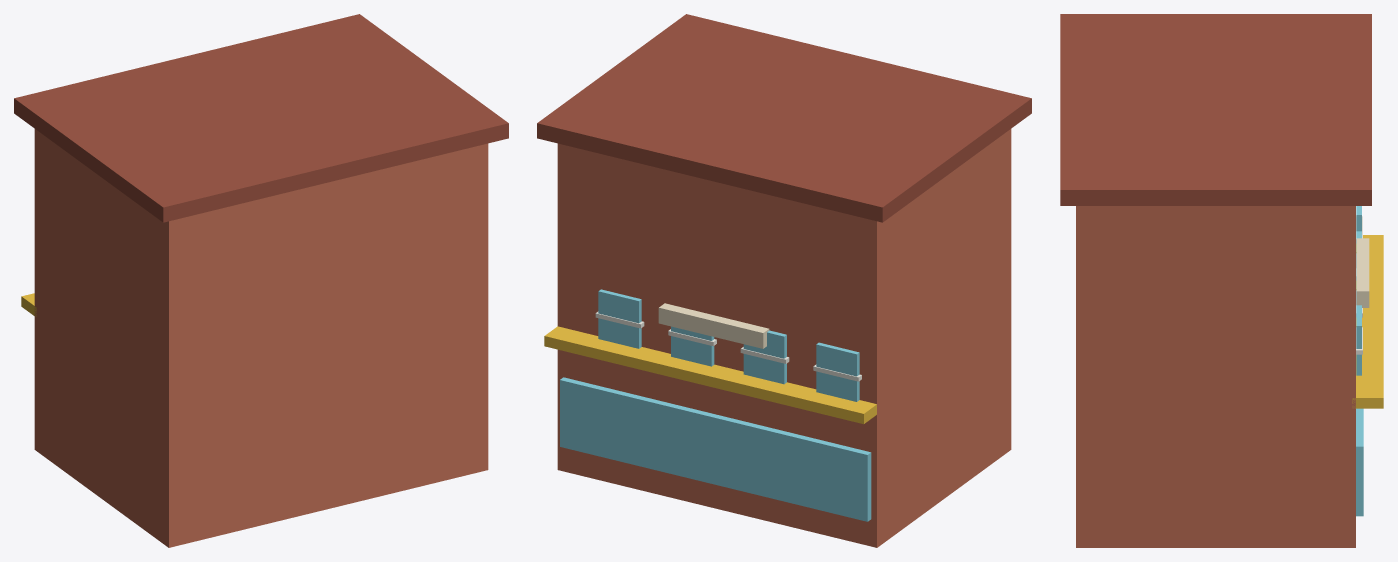
3 views of the same model, side by side, from view 1: azimuth 30°, elevation 25°; view 2: azimuth 150°, elevation 25°; view 3: azimuth 270°, elevation 25° (orthographic). The views are drawn at different scales.
Visible parts, largest first — view 1: building, roof; view 2: building, roof, shopfront, awning, window (×4), sign; view 3: building, roof, awning, sign, shopfront, window.
Boxes of the visible parts, x1,y1,x2,y2 form: building: (34,129,488,547); roof: (14,14,508,222); building: (557,129,1011,547); roof: (537,14,1031,222); shopfront: (560,377,871,521); awning: (544,326,876,424); window (×4): (598,289,859,401); sign: (658,303,769,348); building: (1076,206,1355,547); roof: (1060,14,1371,205); awning: (1352,235,1383,408); sign: (1356,238,1369,307); shopfront: (1356,408,1363,516); window: (1356,305,1361,375).
Size of the model in its own units: 5.95 by 5.75 by 4.62.
